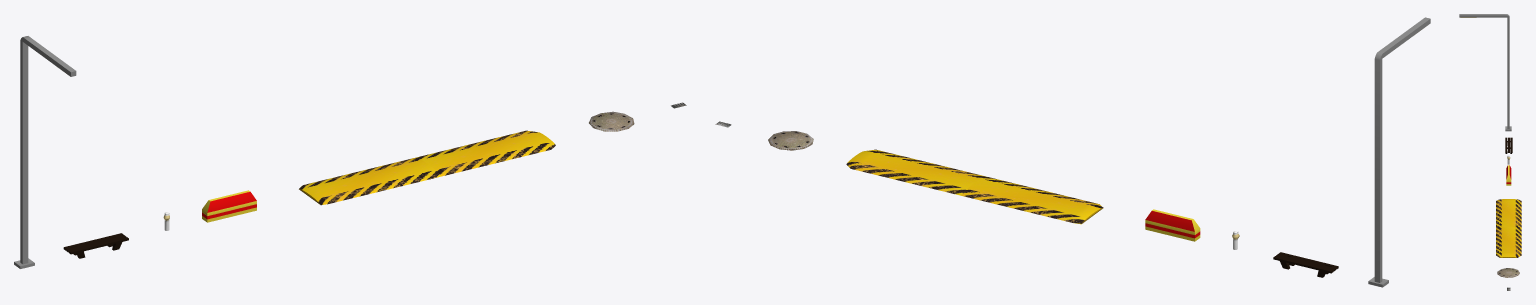
Rendered from Props.FBX.
3 views of the same model, side by side, from view 1: azimuth 30°, elevation 25°; view 2: azimuth 150°, elevation 25°; view 3: azimuth 270°, elevation 25° (orthographic). The views are drawn at different scales.
Visible parts, largest first — view 1: Bump, Lightpole, Barrier, Manhole, Chair; view 2: Bump, Lightpole, Barrier, Manhole, Chair; view 3: Bump, Lightpole, Manhole, Chair, Barrier.
Boxes of the visible parts, bbox=[...] form: Bump: bbox=[299, 130, 555, 205]; Lightpole: bbox=[14, 36, 76, 268]; Barrier: bbox=[202, 190, 256, 222]; Manhole: bbox=[589, 111, 634, 131]; Chair: bbox=[63, 233, 128, 258]; Bump: bbox=[846, 149, 1103, 224]; Lightpole: bbox=[1368, 17, 1430, 287]; Barrier: bbox=[1145, 209, 1200, 241]; Manhole: bbox=[768, 131, 813, 150]; Chair: bbox=[1273, 252, 1338, 277]; Bump: bbox=[1496, 199, 1521, 257]; Lightpole: bbox=[1459, 14, 1511, 131]; Manhole: bbox=[1497, 268, 1519, 277]; Chair: bbox=[1505, 137, 1512, 153]; Barrier: bbox=[1506, 165, 1511, 185].
Bounding box in the file's own units: 23.04 × 7.71 × 3.74.
9 materials, 3 textured.
